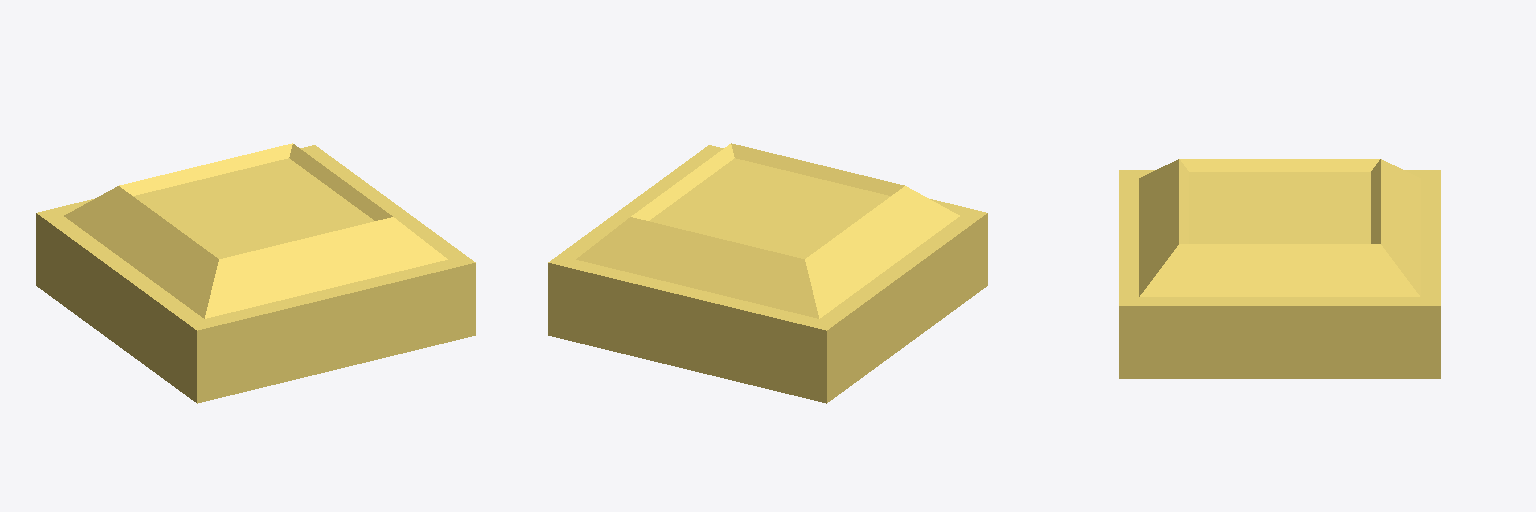
The model's file is WhiteChocolate.obj.
3 views of the same model, side by side, from view 1: azimuth 30°, elevation 25°; view 2: azimuth 150°, elevation 25°; view 3: azimuth 270°, elevation 25° (orthographic).
Visible parts, largest first — view 1: Union1; view 2: Union1; view 3: Union1.
Boxes of the visible parts, x1=… form: Union1: x1=36, y1=143, x2=475, y2=403; Union1: x1=548, y1=143, x2=987, y2=403; Union1: x1=1119, y1=159, x2=1440, y2=378.
Size of the model in its own units: 4 by 1.5 by 4.